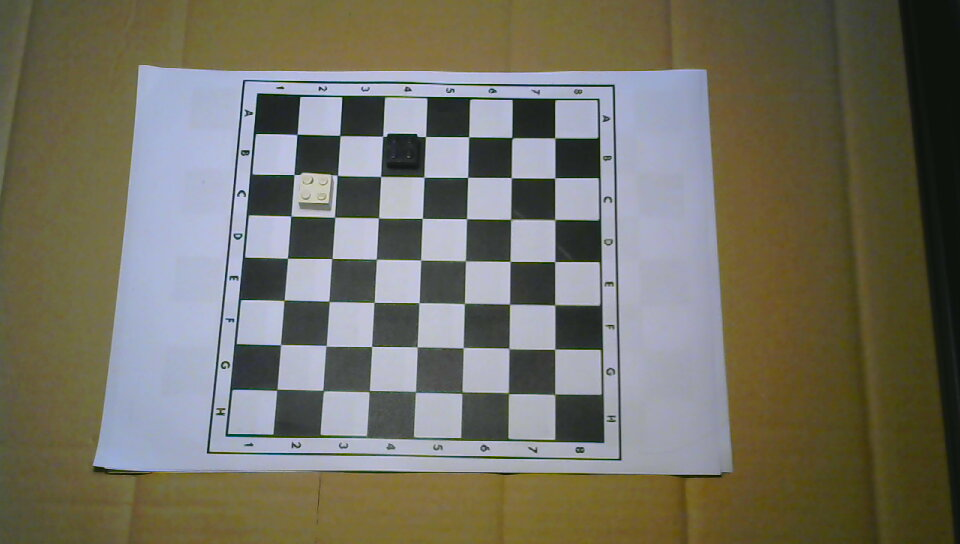bp: (384, 130, 421, 170)
wp: (296, 171, 335, 210)
